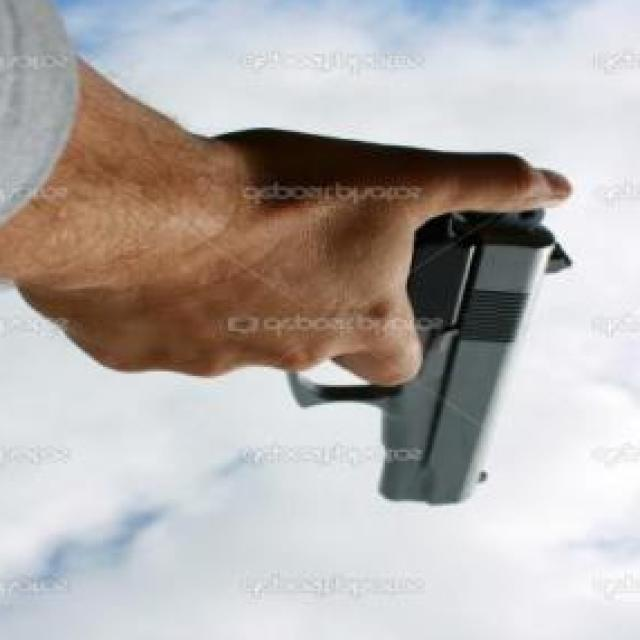pistol: (78, 169, 572, 503)
